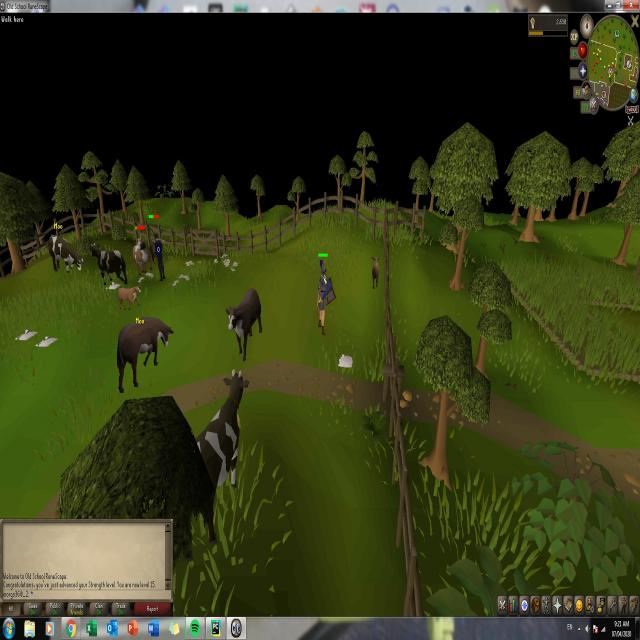cow: (117, 317, 174, 394), (224, 287, 265, 361), (91, 242, 128, 287), (46, 231, 84, 274), (116, 286, 142, 311), (368, 254, 382, 290)
cowhide: (36, 332, 58, 350), (15, 326, 37, 342), (338, 350, 353, 369)
